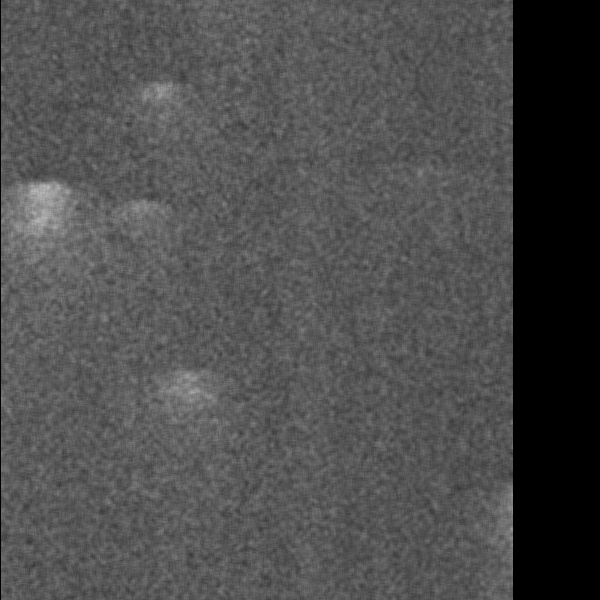spark: (13, 440, 51, 489), (201, 330, 254, 360), (36, 58, 68, 104), (42, 319, 72, 342), (161, 582, 186, 600), (230, 336, 249, 356)
